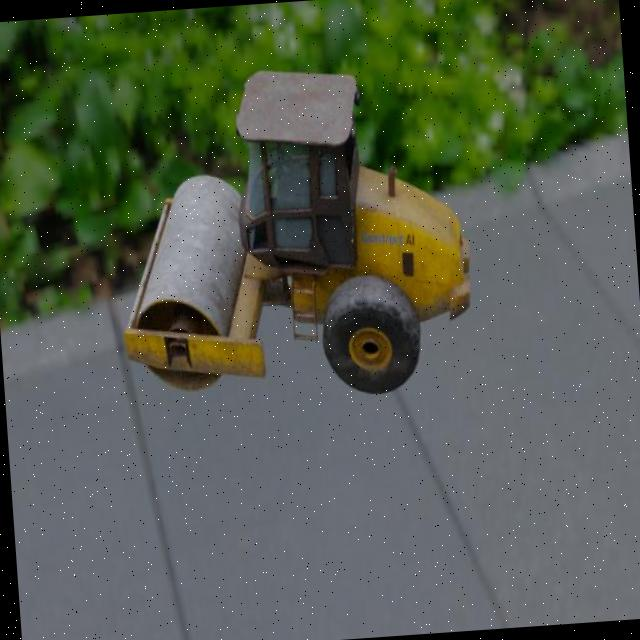Roller: (104, 56, 480, 411)
